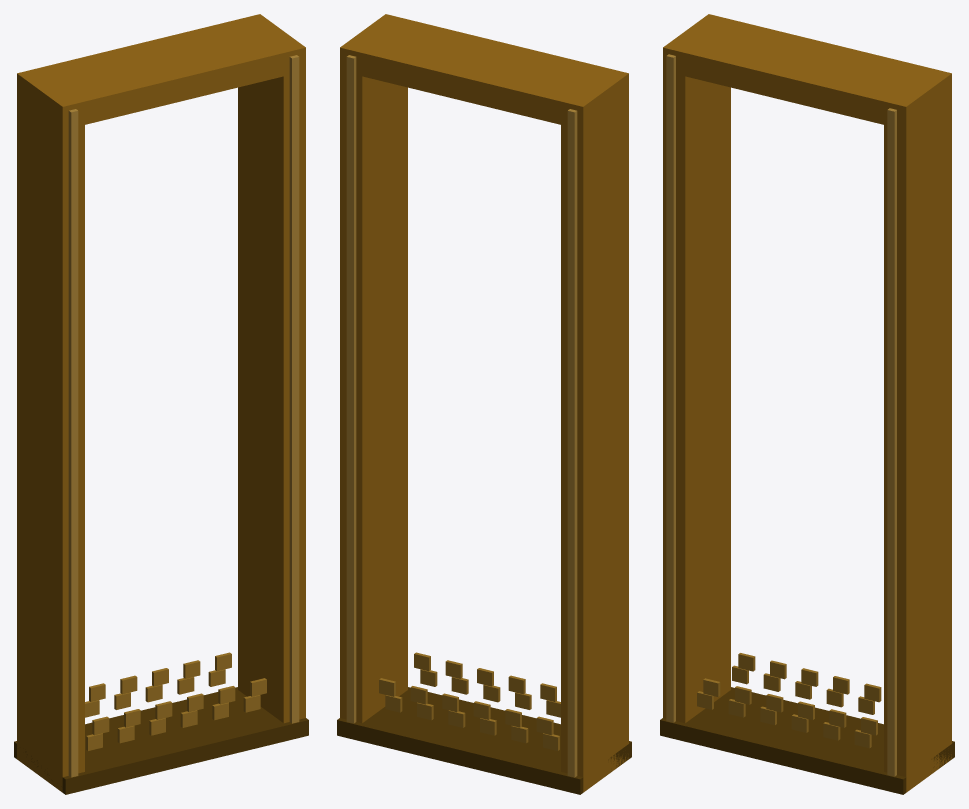
The model's file is CMU3DSingleEngiDoorGlassOpen.glb.
3 renders of one model, left to right at view 1: azimuth 30°, elevation 25°; view 2: azimuth 150°, elevation 25°; view 3: azimuth 330°, elevation 25°, orthographic.
Parts seen in each view (by area): view 1: door jamb (×2), header, jamb raised edge (×2), threshold; view 2: door jamb (×2), header, jamb raised edge (×2), threshold; view 3: door jamb (×2), header, jamb raised edge (×2), threshold.
Part boxes in pixels (x1,y1,x2,y2): door jamb (×2): [17, 14, 305, 792]; header: [17, 14, 305, 129]; jamb raised edge (×2): [68, 55, 299, 777]; threshold: [14, 687, 308, 794]; door jamb (×2): [340, 14, 628, 792]; header: [340, 14, 628, 129]; jamb raised edge (×2): [346, 55, 577, 777]; threshold: [337, 687, 631, 794]; door jamb (×2): [663, 14, 951, 792]; header: [663, 14, 951, 129]; jamb raised edge (×2): [666, 54, 896, 776]; threshold: [660, 687, 954, 794].
Size of the model in its own units: 0.98 by 2.64 by 0.36.
